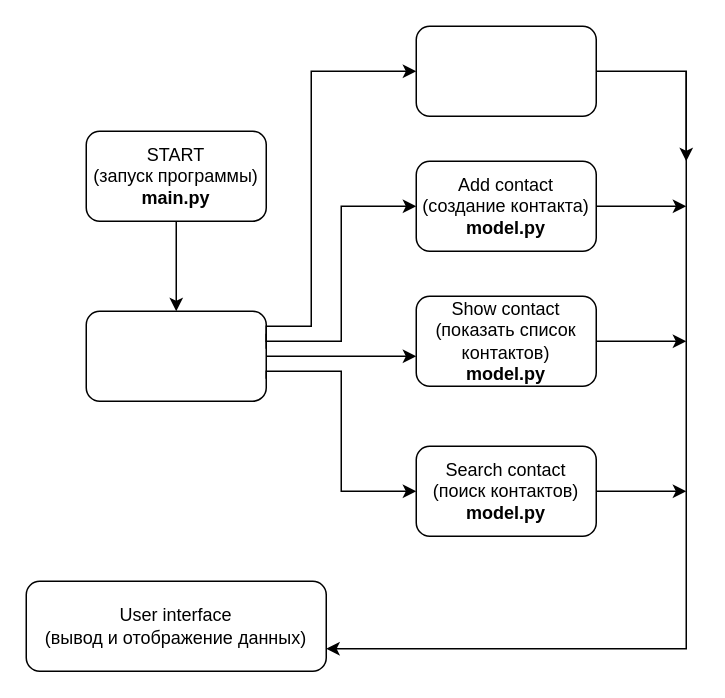
The diagram is 725 pixels wide and 698 high, and some of its shapes have lost their labels. Each missing label, with the centre of its shape:
Controller controller.py: [175,355]
Menu interface (интерфейс меню) view.py: [505,70]
